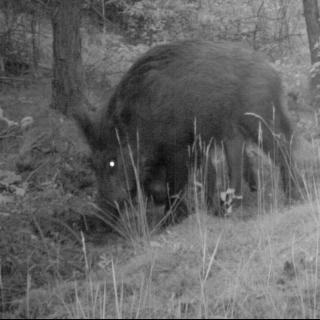Pig: (84, 46, 300, 228)
